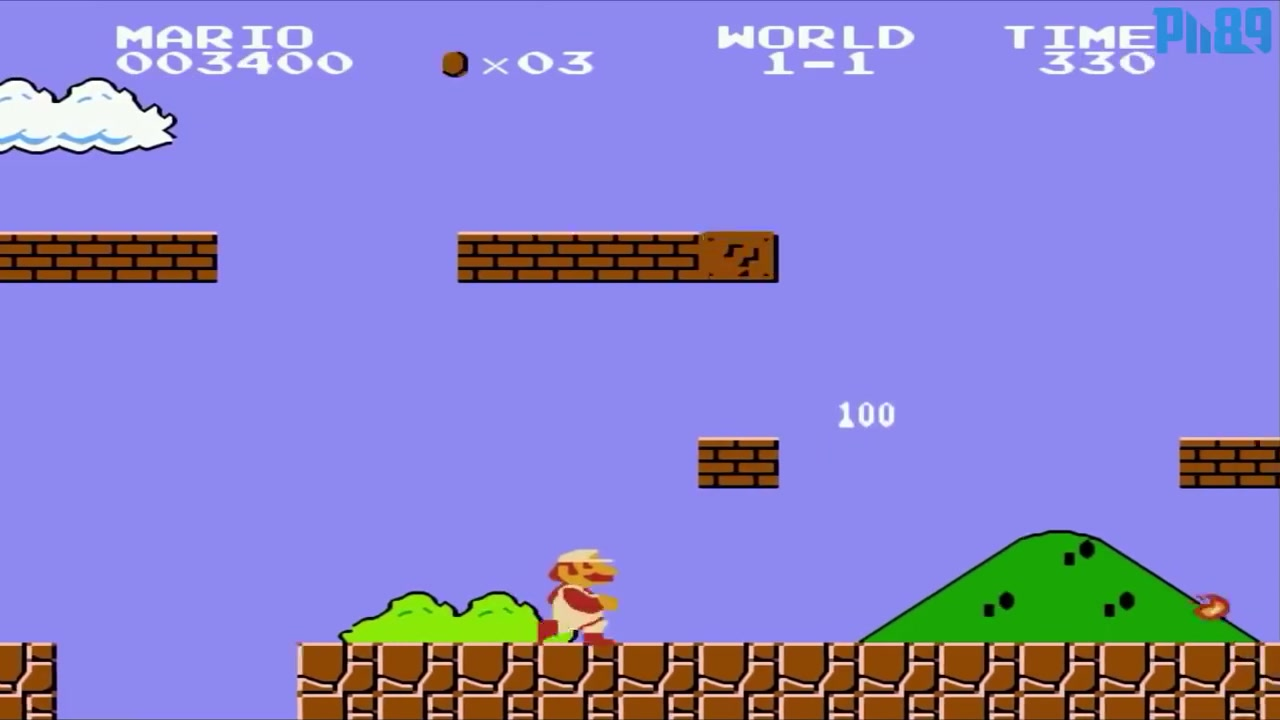mario: (528, 543, 618, 646)
